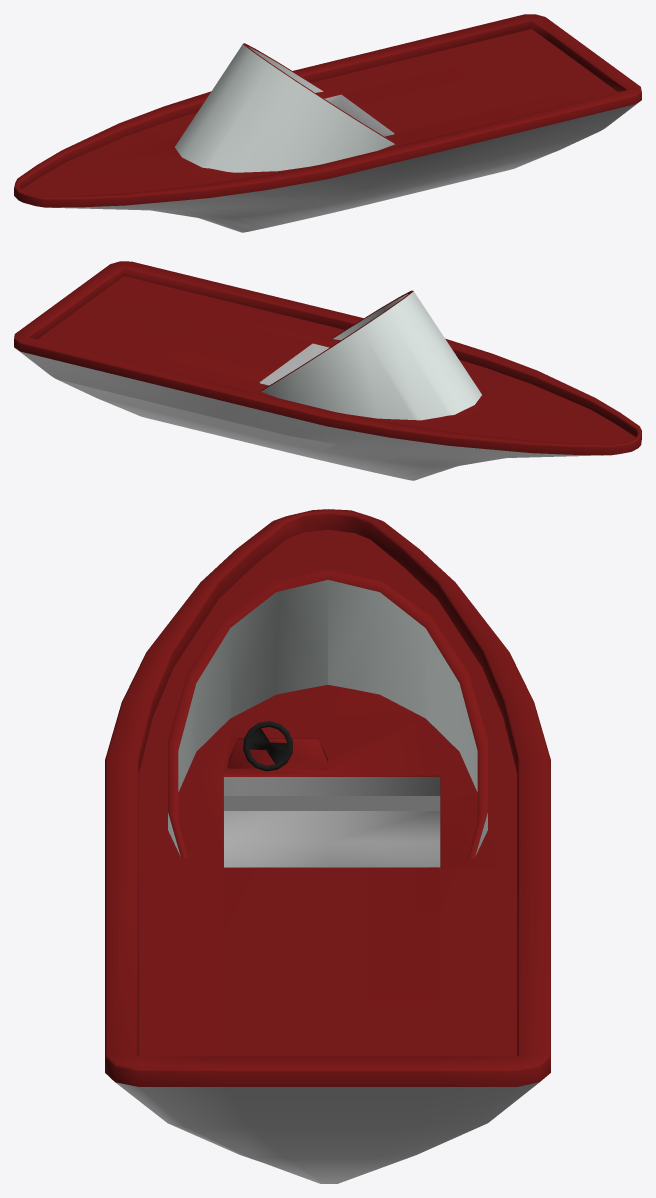
File: motorowka.FBX
The picture shows the model from 3 angles, top to bottom: view 1: azimuth 30°, elevation 25°; view 2: azimuth 150°, elevation 25°; view 3: azimuth 270°, elevation 25°; orthographic projection. The views are drawn at different scales.
Visible parts, largest first — view 1: motorboat; view 2: motorboat; view 3: motorboat.
Part boxes in pixels (x1,y1,x2,y2): motorboat: (14, 14, 641, 232); motorboat: (14, 261, 641, 480); motorboat: (105, 509, 550, 1183).
Bounding box in the file's own units: 839 × 250 × 281.
